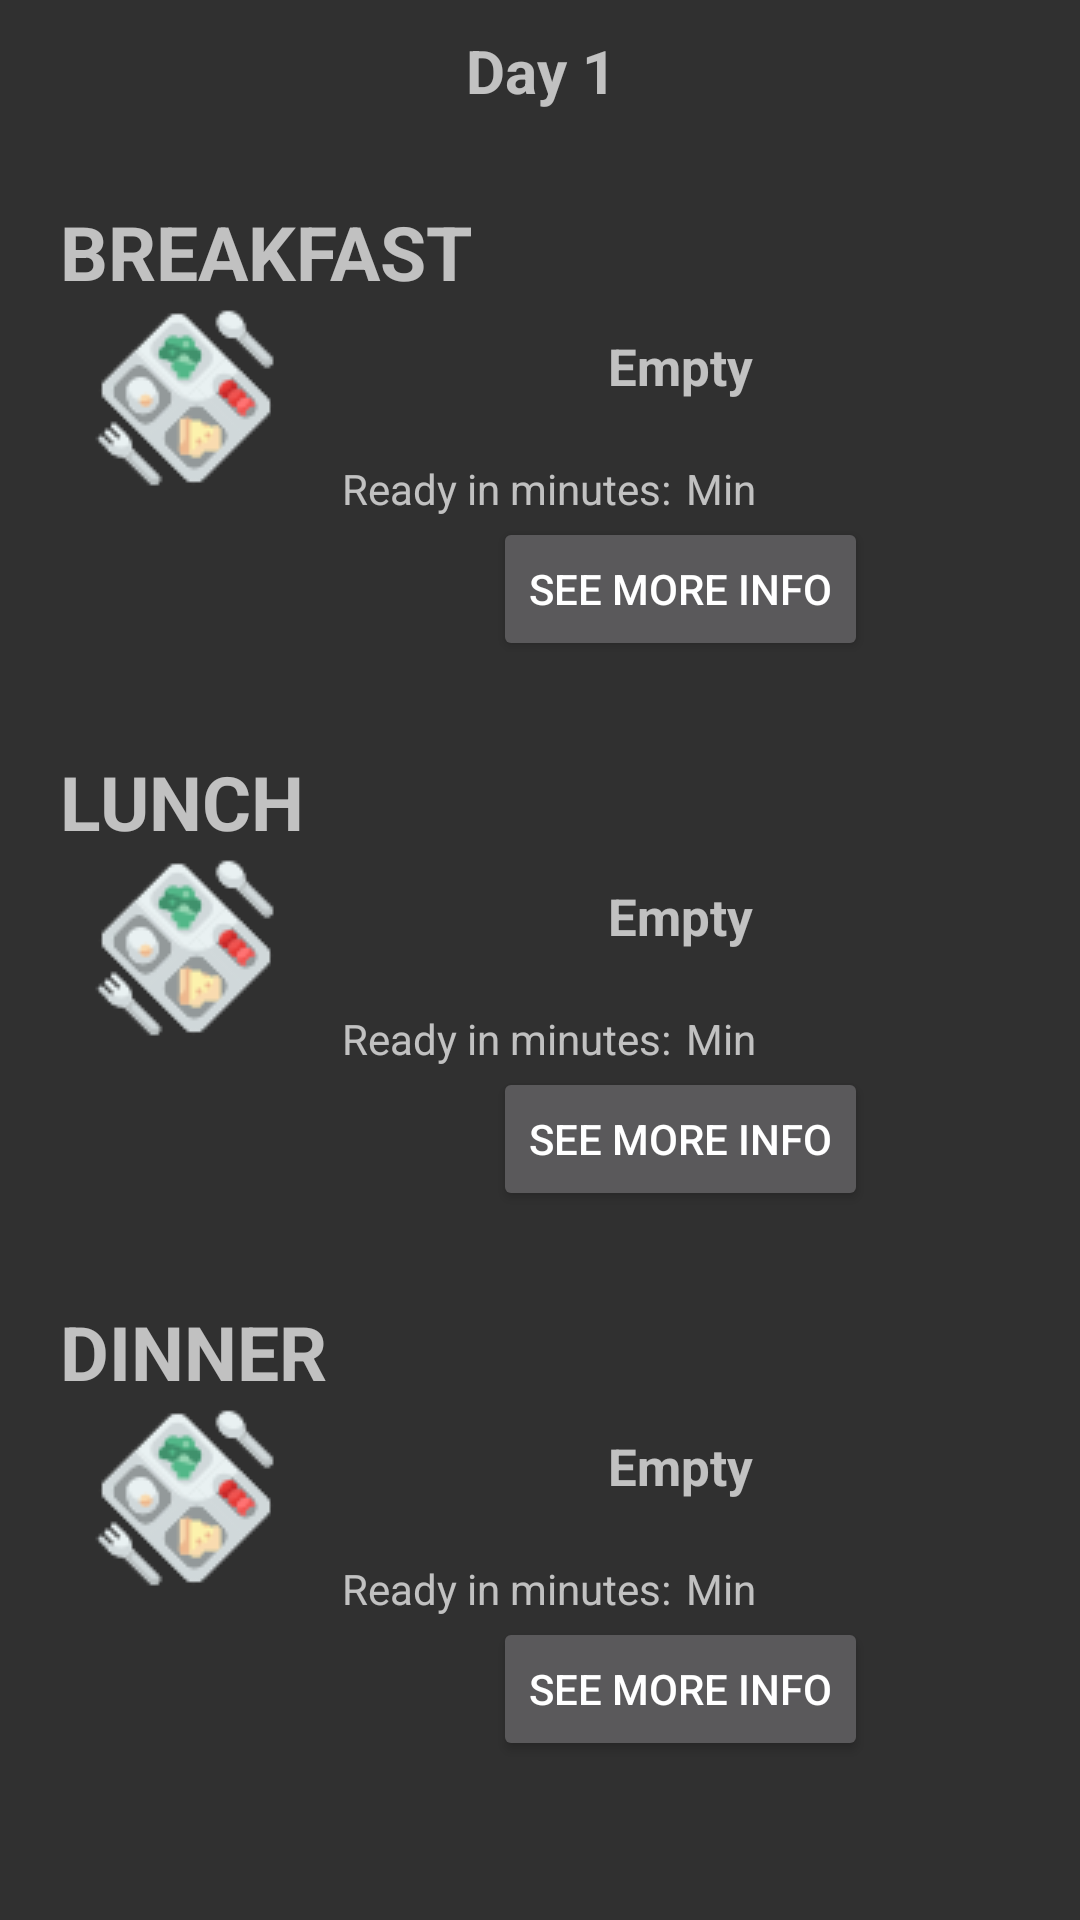

Where to tap for icons on this 1080w x 1920h app screen, as (x=x, y=y):
meal: (x=185, y=398), (x=185, y=948), (x=185, y=1498)
